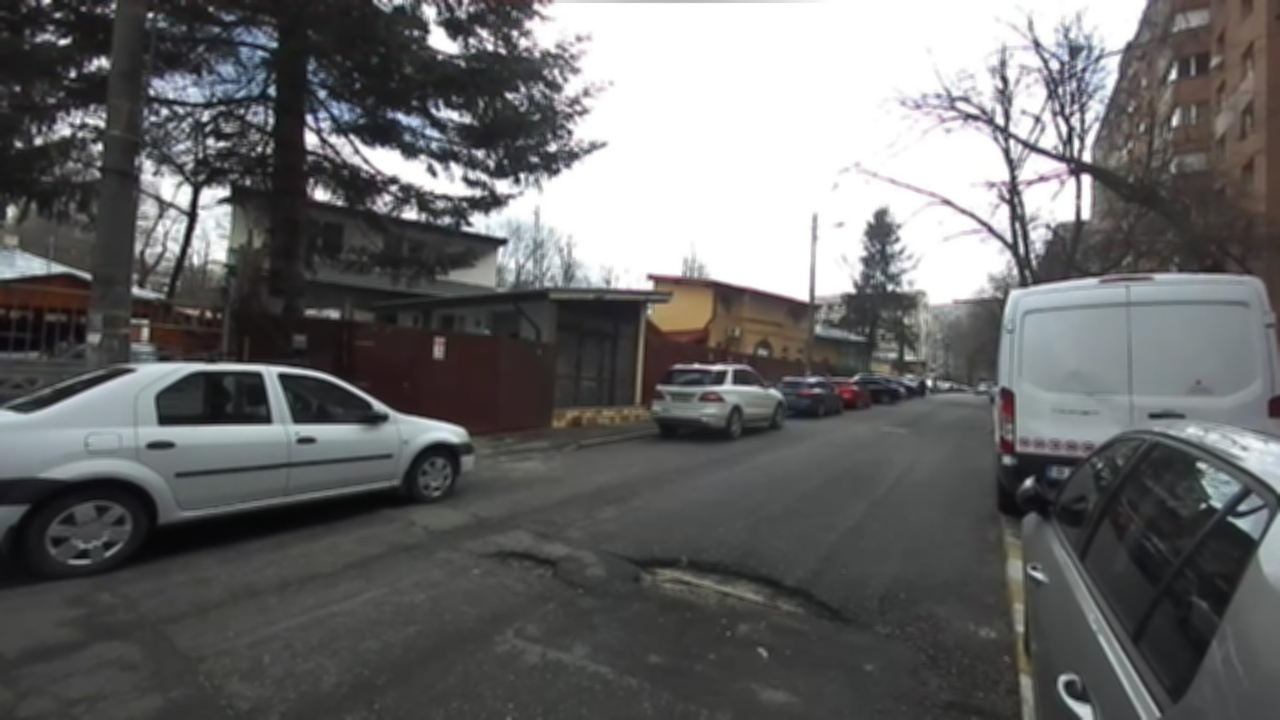pothole: (621, 551, 860, 636), (475, 546, 574, 586)
